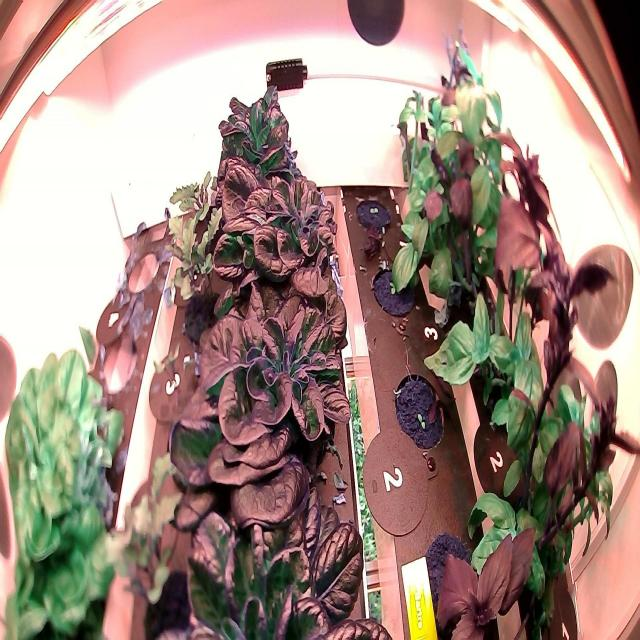Ready: (1, 340, 141, 563), (204, 71, 330, 240)
empty_pod: (94, 319, 140, 398), (124, 244, 162, 302)
germination: (390, 353, 447, 462), (366, 255, 426, 325), (351, 184, 397, 243)
pod: (417, 523, 487, 639)
young: (152, 248, 369, 542), (140, 464, 407, 640), (190, 123, 352, 307), (1, 538, 123, 640)
